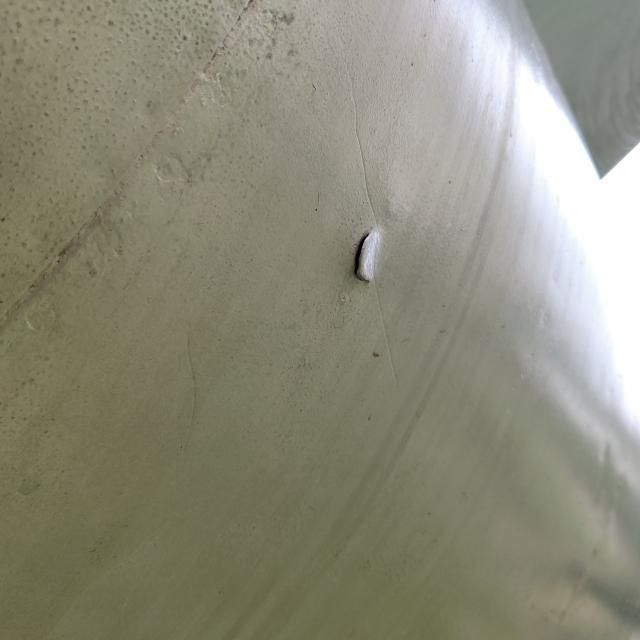crack: (337, 220, 397, 295)
